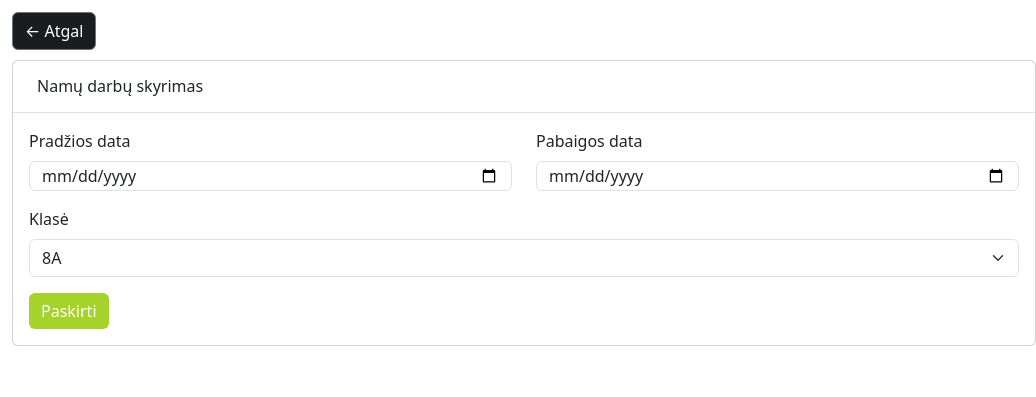
Test: AssignHomework component › displays error message for invalid form data error
Step 1. Type "2024-04-14" into the date field labelled "Pradžios data" → (270,176), box top-left (29, 161), bottom-right (512, 191)
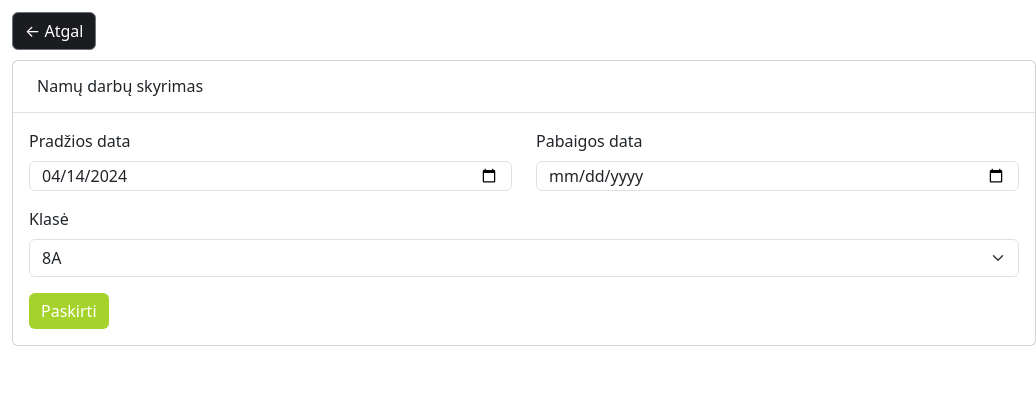
Step 2. Type "2024-04-28" into the date field labelled "Pabaigos data" → (778,176), box top-left (536, 161), bottom-right (1019, 191)
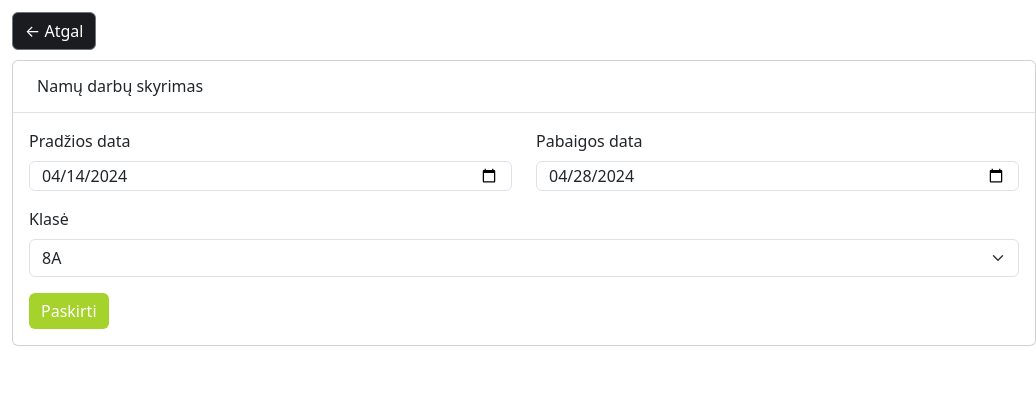
Step 3. Select "8A" in the dropdown labelled "Klasė" → (524,258), box top-left (29, 239), bottom-right (1019, 277)
Step 4. Click the button "Paskirti" → (69,311), box top-left (29, 293), bottom-right (108, 329)
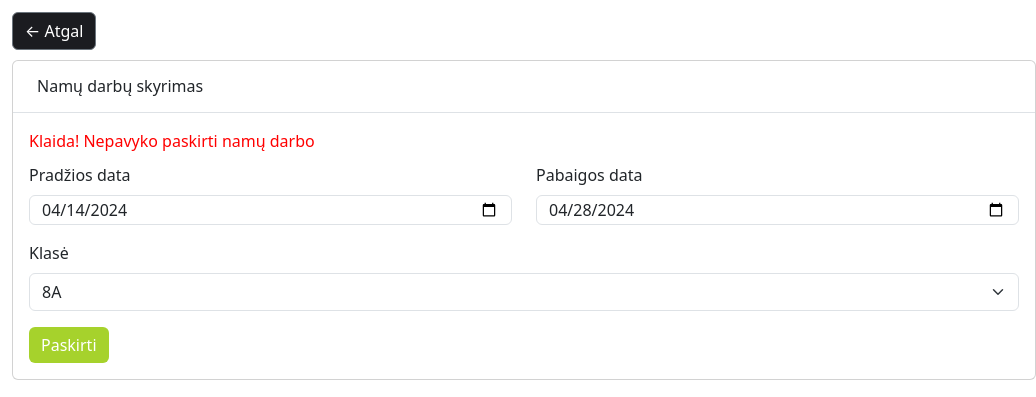
Expected: the text "Klaida! Nepavyko paskirti namų darbo" is shown, top-left (29, 130), bottom-right (315, 152)
